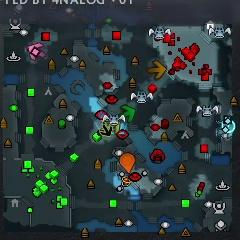Other: (221, 120, 236, 133)
p5: (118, 151, 136, 175)
x1: (27, 42, 47, 62)
x2: (106, 120, 121, 137)
x3: (216, 129, 233, 138)
x4: (119, 105, 137, 125)
x5: (146, 59, 167, 80)
